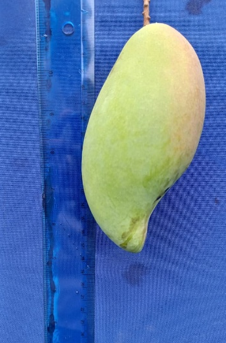Mango-sano: (82, 23, 205, 252)
